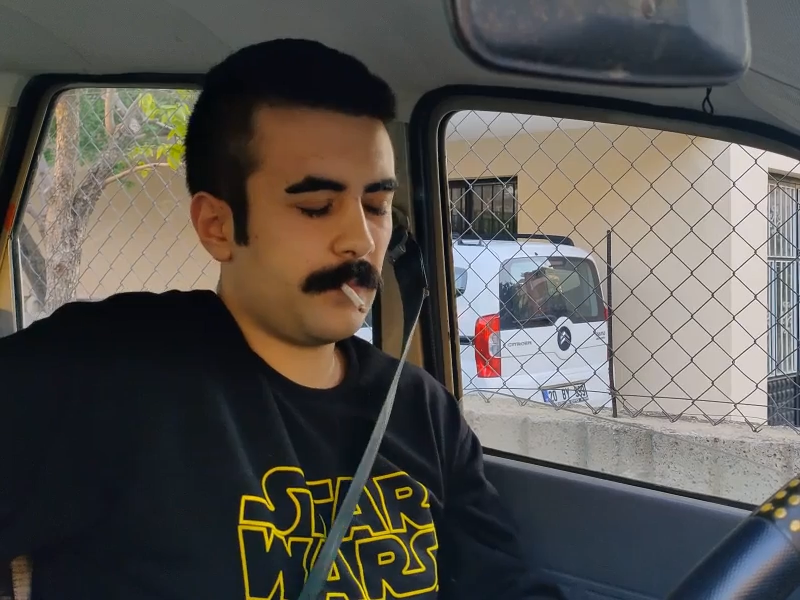sigara: (334, 277, 373, 318)
